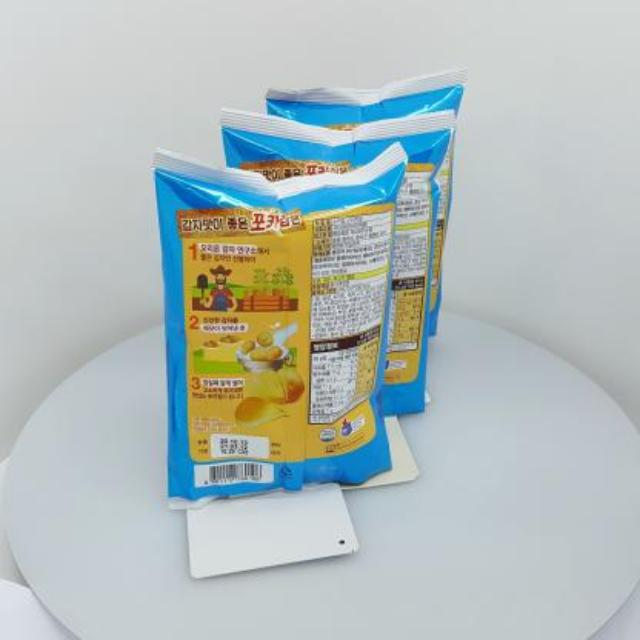snack_bag: (125, 71, 503, 495)
